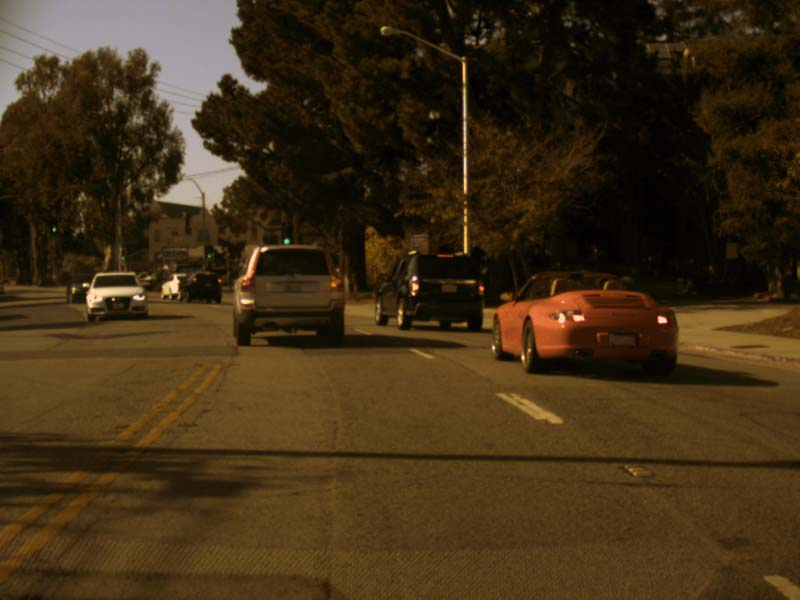Green: (281, 223, 293, 247), (50, 218, 57, 232), (205, 245, 212, 259), (120, 248, 125, 261)
